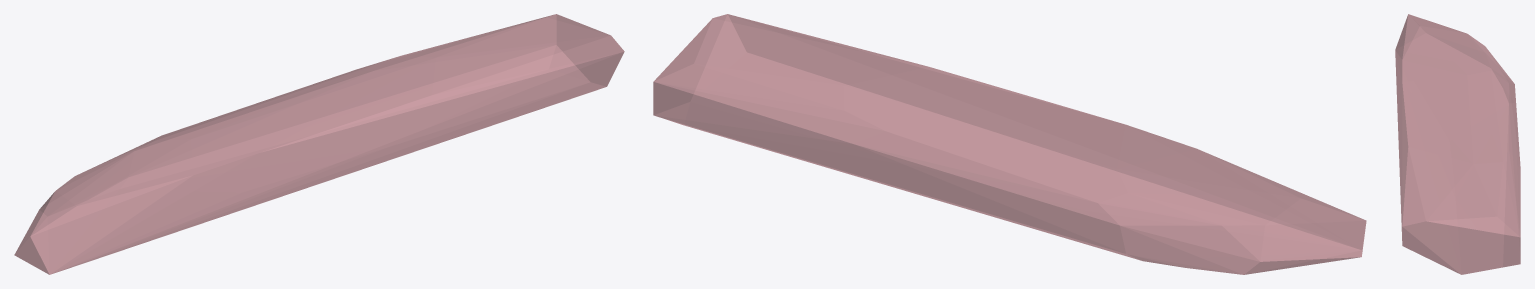
3 renders of one model, left to right at view 1: azimuth 30°, elevation 25°; view 2: azimuth 150°, elevation 25°; view 3: azimuth 270°, elevation 25°, orthographic. The views are drawn at different scales.
Visible parts, largest first — view 1: Shape_IndexedFaceSet.004_Shape_IndexedFaceSet.5880; view 2: Shape_IndexedFaceSet.004_Shape_IndexedFaceSet.5880; view 3: Shape_IndexedFaceSet.004_Shape_IndexedFaceSet.5880.
Boxes of the visible parts, x1=… form: Shape_IndexedFaceSet.004_Shape_IndexedFaceSet.5880: x1=14, y1=14, x2=624, y2=274; Shape_IndexedFaceSet.004_Shape_IndexedFaceSet.5880: x1=653, y1=14, x2=1366, y2=274; Shape_IndexedFaceSet.004_Shape_IndexedFaceSet.5880: x1=1395, y1=14, x2=1520, y2=274.
Size of the model in its own units: 0.2749 by 0.0375 by 0.0577.
